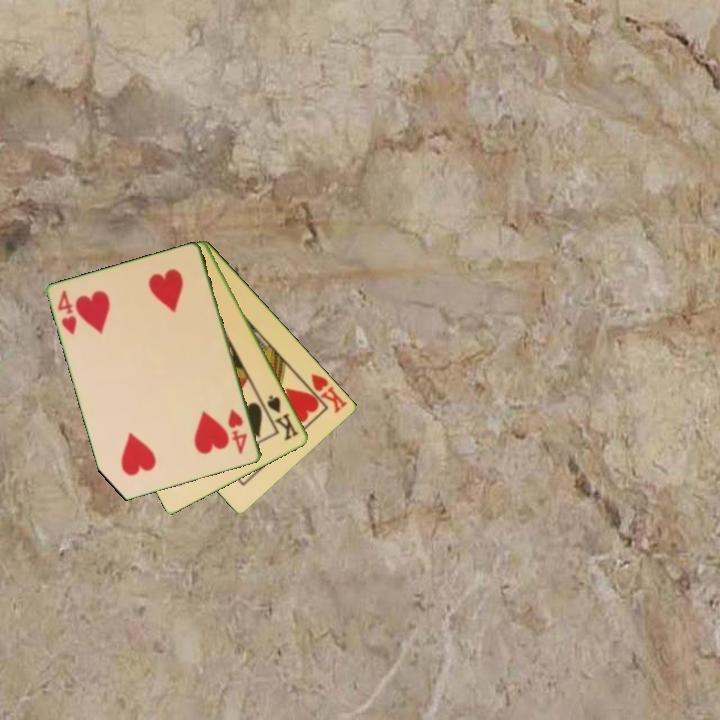4h: (54, 287, 80, 338), (225, 405, 250, 457)
Kh: (299, 370, 351, 416)
Ks: (264, 392, 302, 444)
